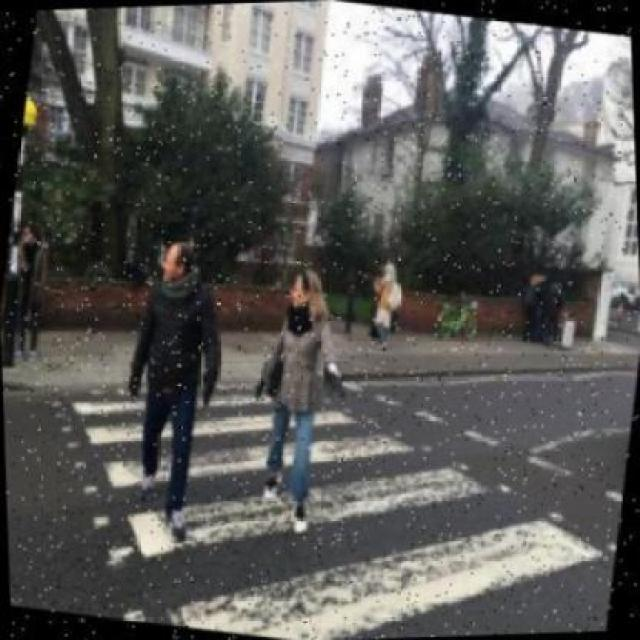sem_oculos: (289, 277, 313, 308), (162, 248, 188, 271)
